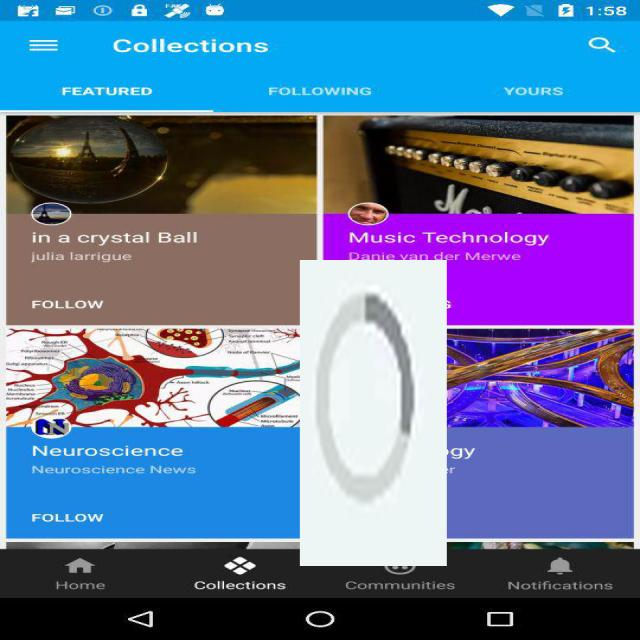misdirection: (300, 260, 447, 566)
